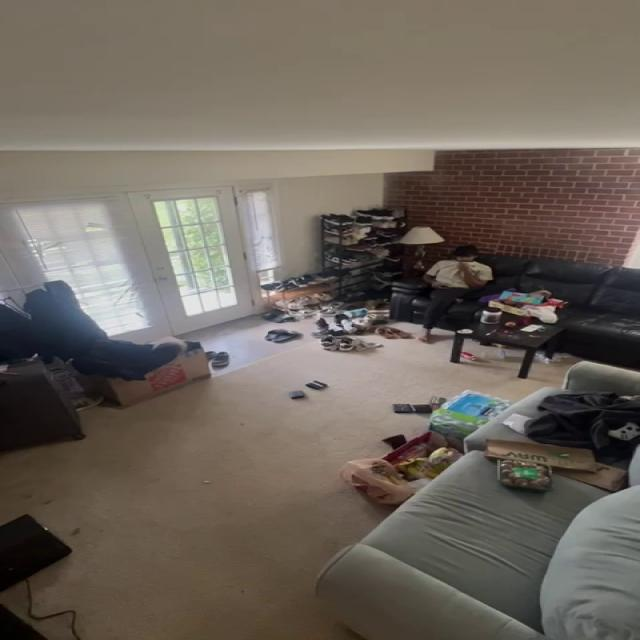wallet: (418, 244, 492, 346), (382, 434, 406, 448), (392, 403, 413, 414), (306, 380, 329, 390), (288, 390, 306, 400), (414, 404, 434, 413)
